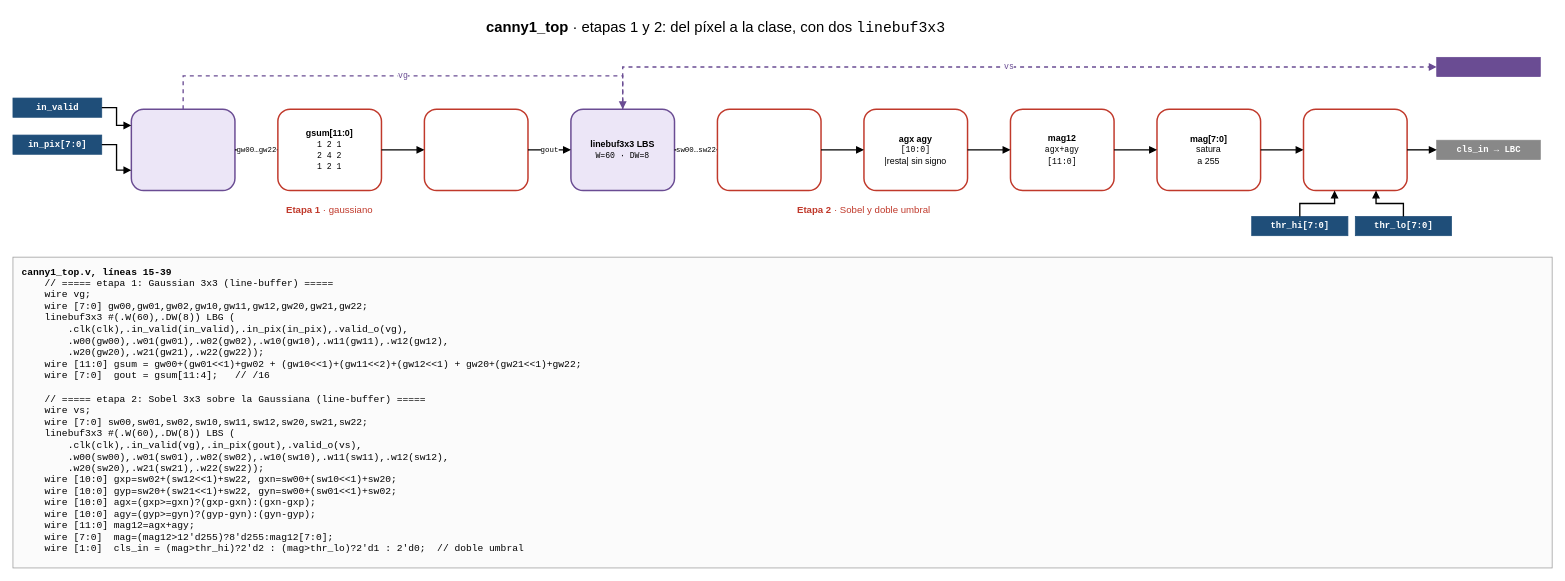
The diagram is 1565 pixels wide and 581 high, and some of its shapes have lost their labels. Each missing label, with the centre of its shape:
"cls_in[1:0] 2 fuerte 1 débil · 0 nada" belongs at (x=1354, y=149).
"gout[7:0] gsum[11:4] ÷16" belongs at (x=475, y=149).
"gxp gxn gyp gyn [10:0] sumas 1-2-1" belongs at (x=768, y=149).
"linebuf3x3 LBG W=60 · DW=8" belongs at (x=182, y=149).
"vs → LBC" belongs at (x=1488, y=67).
